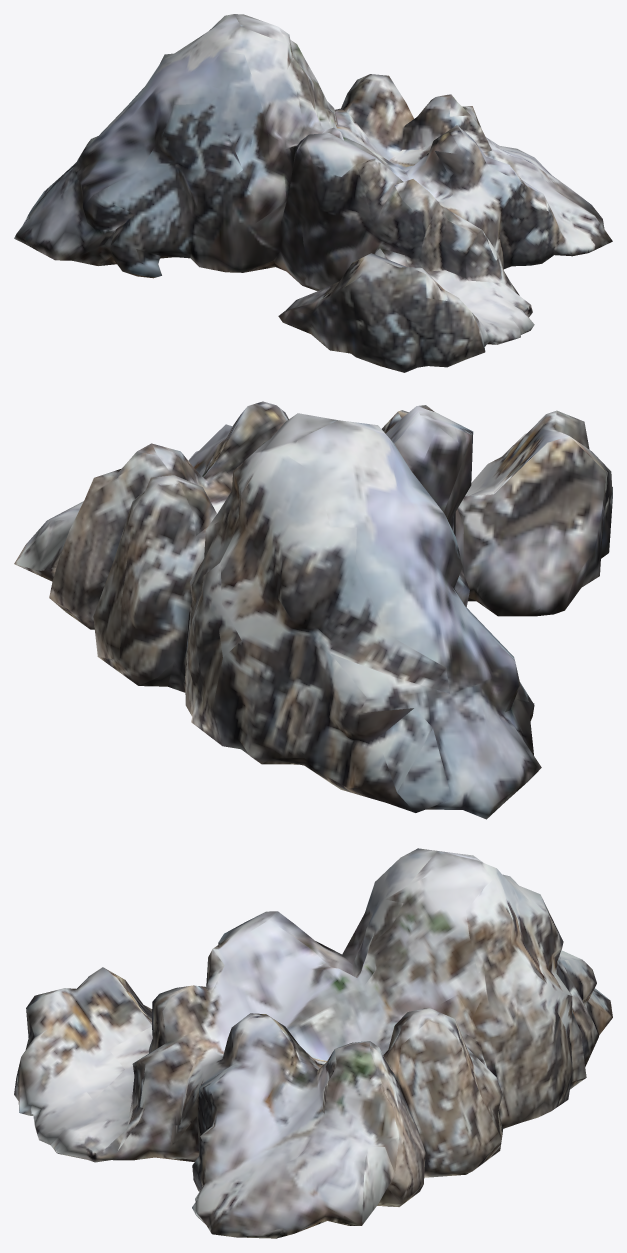
File: ThirdRoom_RockArch.fbx
The picture shows the model from 3 angles, top to bottom: view 1: azimuth 30°, elevation 25°; view 2: azimuth 150°, elevation 25°; view 3: azimuth 270°, elevation 25°; orthographic projection. The views are drawn at different scales.
Visible parts, largest first — view 1: ThirdRoom_RockArch_Mesh; view 2: ThirdRoom_RockArch_Mesh; view 3: ThirdRoom_RockArch_Mesh.
Part boxes in pixels (x1=…): ThirdRoom_RockArch_Mesh: x1=14, y1=14, x2=612, y2=372; ThirdRoom_RockArch_Mesh: x1=14, y1=401, x2=612, y2=819; ThirdRoom_RockArch_Mesh: x1=14, y1=848, x2=612, y2=1238.
Size of the model in its own units: 5.95 by 2.67 by 6.
Materials: 1 (1 with a texture image).
